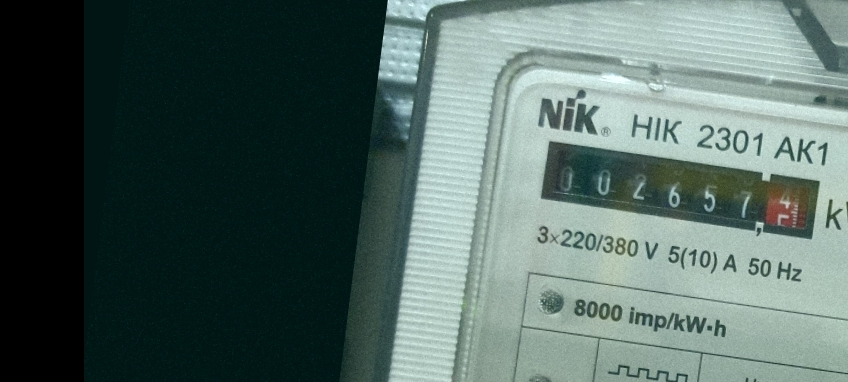0: (595, 165, 614, 197), (557, 162, 577, 192)
2: (630, 170, 650, 201)
4: (777, 182, 795, 209)
5: (701, 181, 720, 213), (775, 211, 792, 227)
6: (666, 177, 684, 208)
7: (736, 186, 755, 220)
screen: (530, 128, 834, 251)
